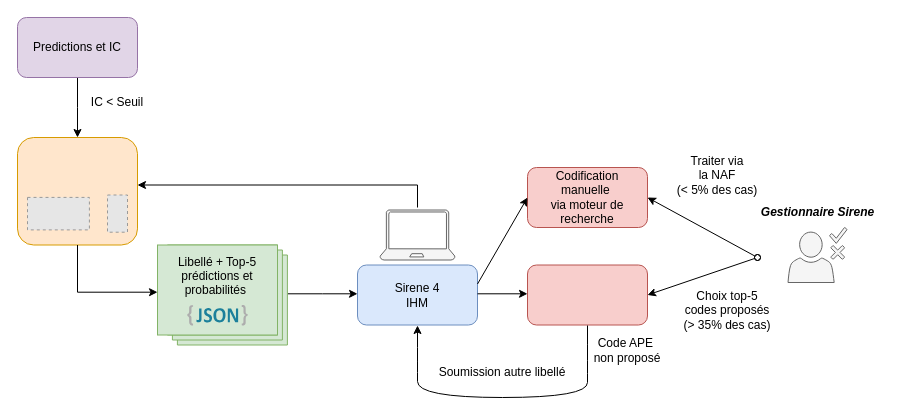
This 905x415 diagram has some shape labels left out. Grey dashed boxes stand in for pictures. Each missing label, with the box of its shape:
Codification APE assistée: (526, 264, 648, 325)
Module de classification: (16, 136, 138, 245)
